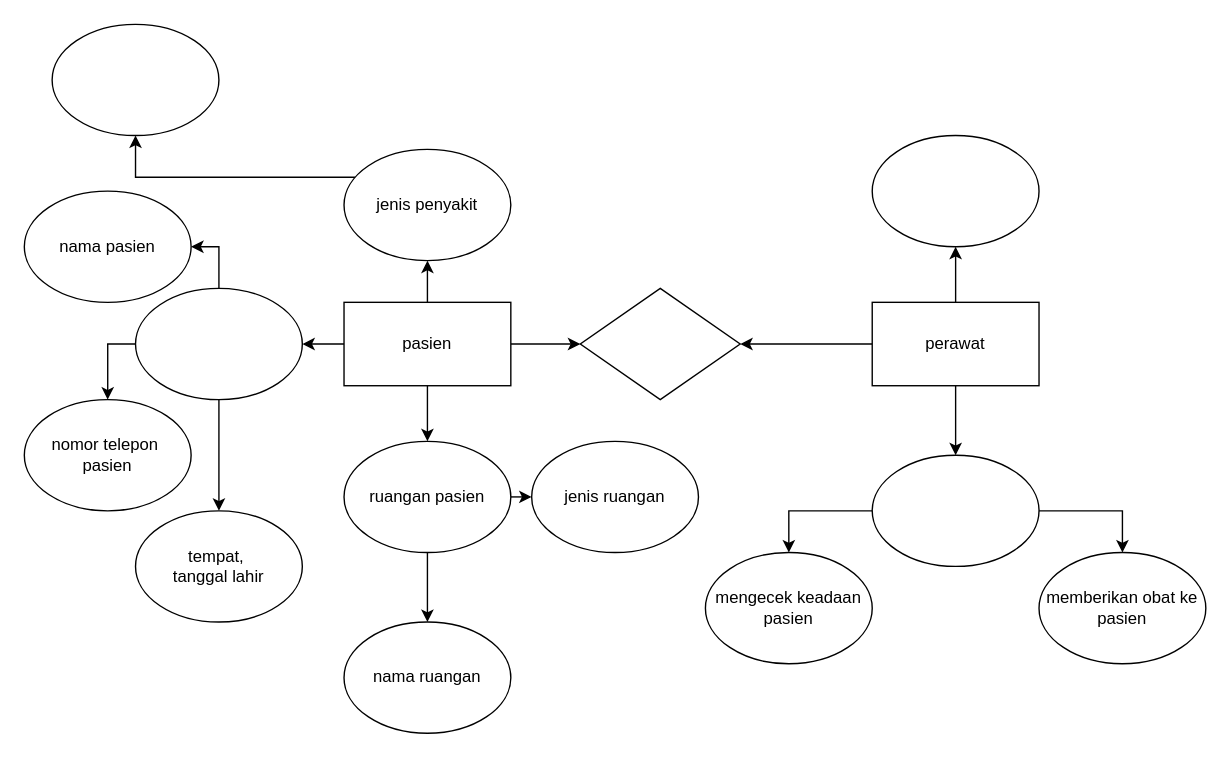
This 1230x758 diagram has some shape labels left out. The shapes that lost their labels are listed below. From the top down, each one's centre as x and y in pixels, then its label:
the point at 135,79: penyakit kulit
the point at 955,190: buku pemeriksaan
the point at 218,343: data pasien
the point at 659,343: merawat
the point at 955,510: kegiatan
